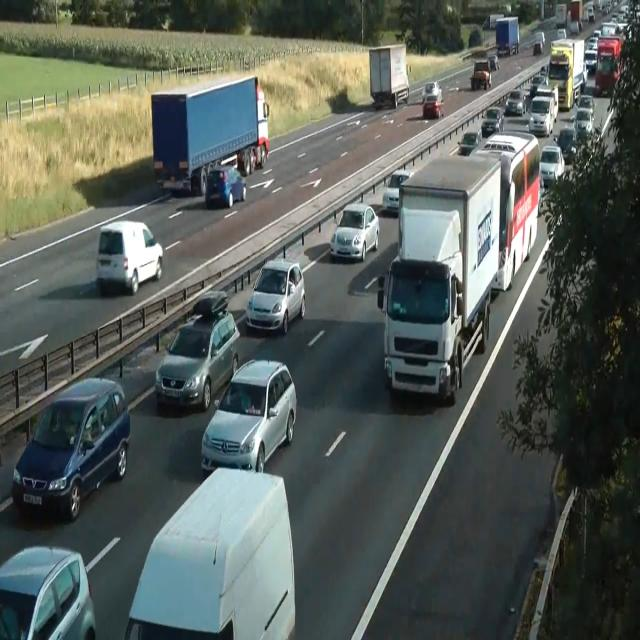bus: (201, 357, 297, 474), (0, 544, 96, 639), (96, 220, 162, 296), (245, 258, 305, 334), (330, 202, 380, 261), (204, 166, 246, 209), (382, 168, 416, 214), (191, 290, 229, 317), (553, 124, 578, 164), (535, 85, 559, 122), (571, 108, 593, 142), (458, 124, 482, 154), (482, 106, 504, 136), (422, 91, 444, 118), (505, 89, 527, 115), (577, 94, 595, 119), (422, 81, 442, 103), (584, 48, 597, 74), (531, 73, 547, 86), (488, 54, 500, 70), (557, 28, 566, 39)
jeep: (124, 465, 296, 638), (11, 376, 131, 522), (154, 306, 240, 411), (539, 144, 565, 189), (528, 94, 554, 136)
minibus: (377, 152, 501, 403), (151, 75, 269, 196), (469, 130, 540, 292), (548, 38, 588, 110), (368, 43, 410, 109), (594, 36, 624, 96), (555, 0, 583, 35), (495, 16, 519, 56), (469, 58, 492, 90), (482, 14, 504, 31), (533, 31, 545, 55), (583, 2, 595, 23)
